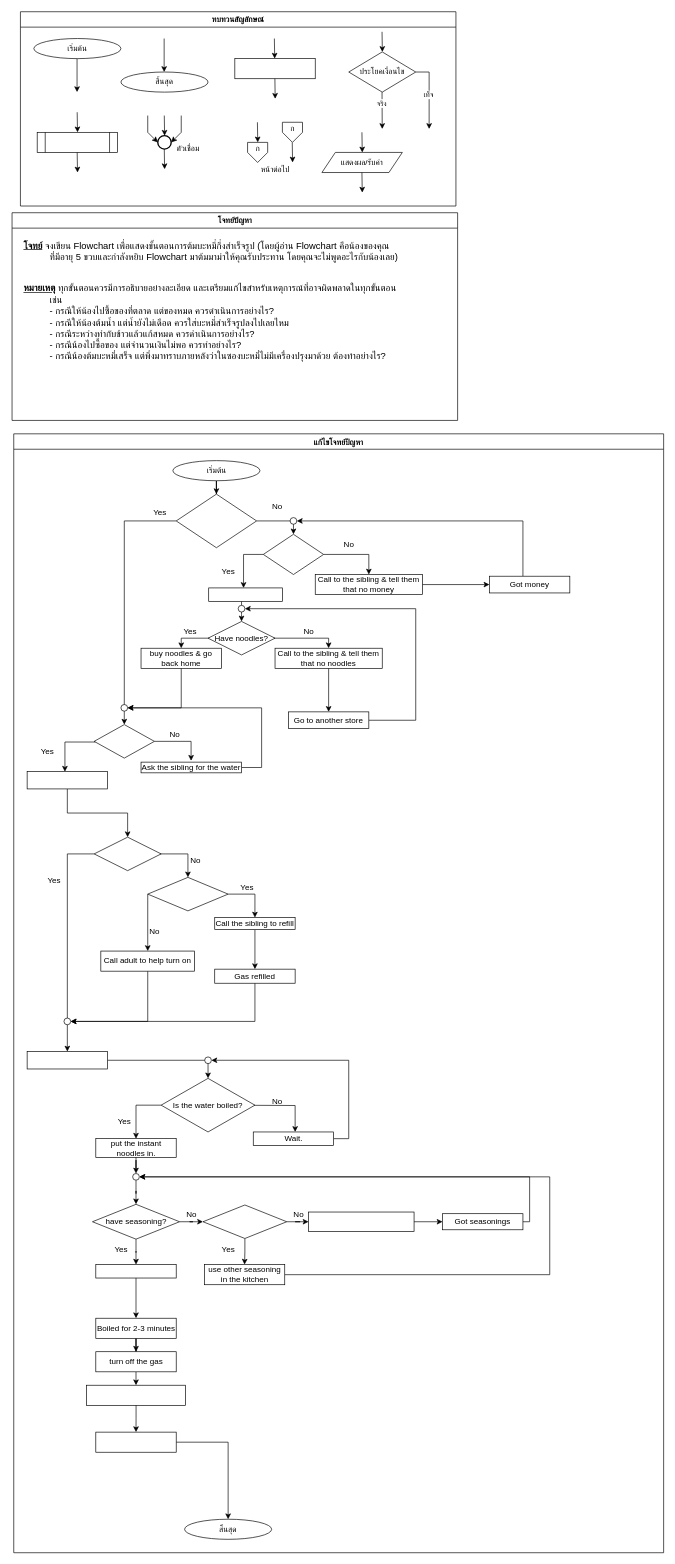
Some shapes in this 675 by 1564 pixel diagram are drawn without their labels. The box of each missing label's shape, as (x1, y1, x2, y2) in pixels:
Can turn on the gas?: (93, 836, 161, 871)
Check the gas if it run out?: (147, 877, 228, 911)
Go to the market: (208, 587, 282, 601)
Have instant noodles?: (176, 493, 257, 548)
Have money?: (263, 534, 324, 575)
Have water?: (93, 724, 154, 758)
Other seasoning in the kitchen?: (202, 1204, 287, 1238)
Pot on the stove: (26, 1051, 108, 1069)
Pour water in the pot: (26, 771, 108, 789)
Put in the pot: (95, 1264, 176, 1278)
Put the noodles in the bowl: (86, 1385, 185, 1405)
ready to serve: (95, 1431, 176, 1452)
tell adults that we run out seasoning: (308, 1211, 414, 1231)
กระบวนการ: (234, 58, 315, 79)
ฟังก์ชัน/โมดูล: (37, 132, 118, 152)
